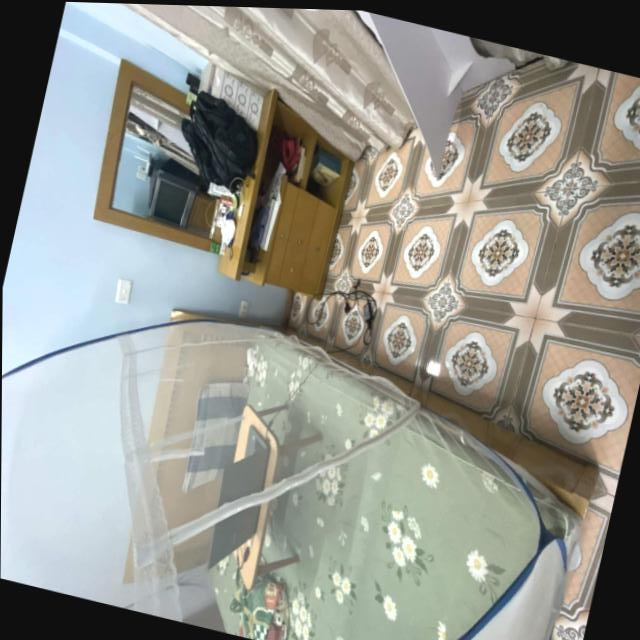outlet: (237, 300, 250, 319)
